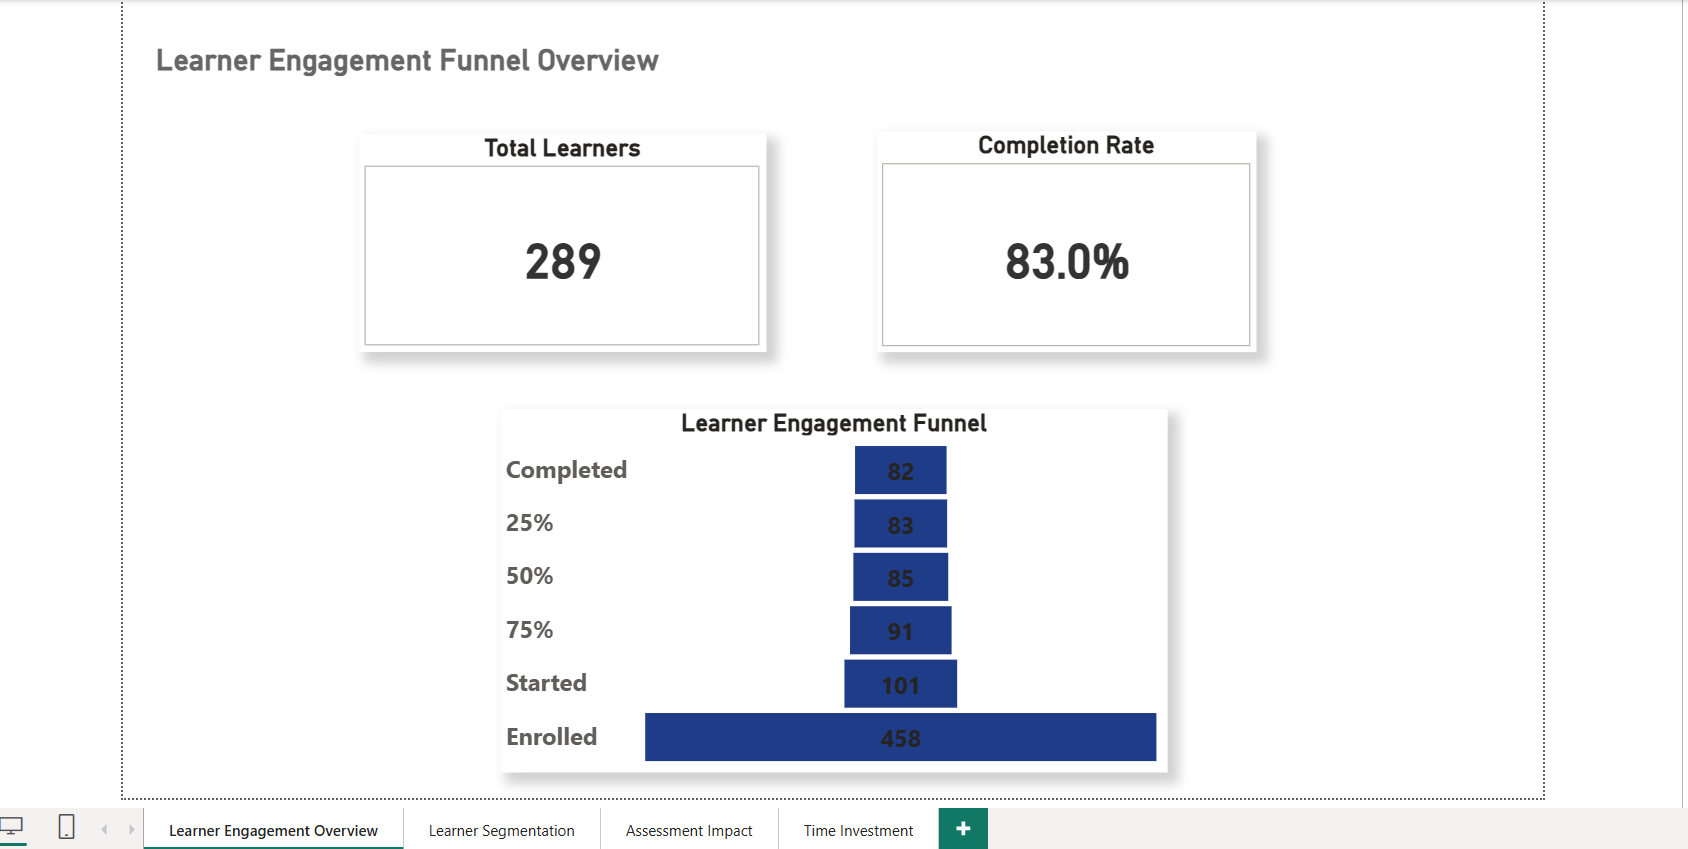

Layout of this report page (visuals, bound fields, positions):
{"tool":"powerbi","page":{"name":"Learner Engagement Overview","canvas":[1280,720],"ordinal":0},"visuals":[{"type":"cardVisual","title":"Total Learners","fields":{"Data":["learner_activity_curated.Total Learners"]},"box":[212.8,121.1,366.8,196.9],"z":0},{"type":"cardVisual","title":"Completion Rate","fields":{"Data":["learner_activity_curated.Completion Rate (%)"]},"box":[679.9,118.6,342.4,199.3],"z":1000},{"type":"funnel","title":"Learner Engagement Funnel","fields":{"Category":["learner_activity_curated.funnel_stage"],"Y":["CountNonNull(learner_activity_curated.user_id)"]},"box":[339.9,368.1,601.6,327.7],"z":2000},{"type":"textbox","title":"Learner Engagement Funnel Overview","box":[24.5,37.9,509.9,34.2],"z":3000}]}

Visuals, with their boxes on the page's 1280x720 design canvas (x1, y1, x2, y2). These are canvas units, not pixel positions in the 1688x849 screenshot, which may show the page scaled, cropped or inside an application window:
"Total Learners" cardVisual: region(213, 121, 580, 318)
"Completion Rate" cardVisual: region(680, 119, 1022, 318)
"Learner Engagement Funnel" funnel: region(340, 368, 942, 696)
"Learner Engagement Funnel Overview" textbox: region(24, 38, 534, 72)
